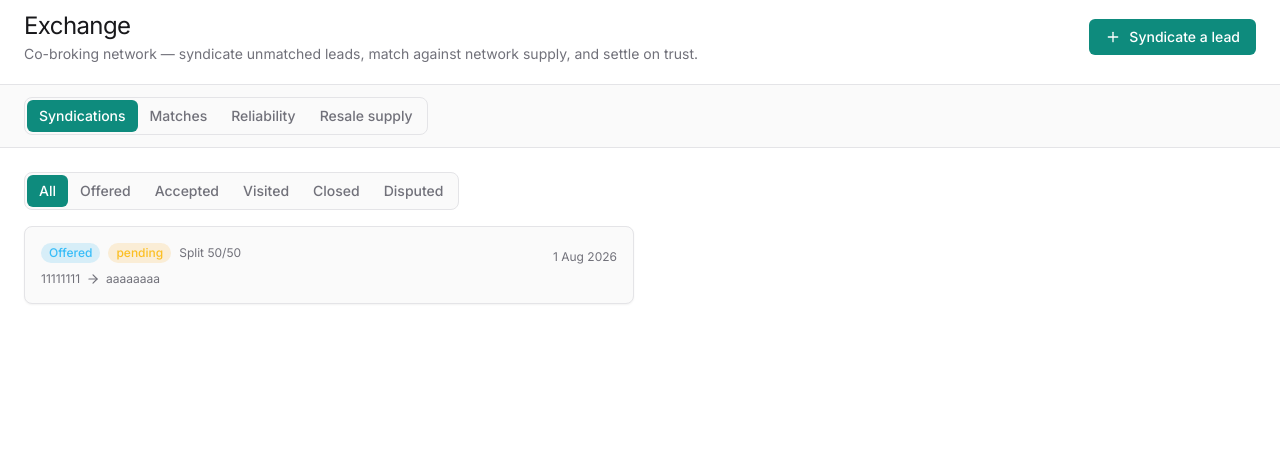
ExchangePage match panel › asks for nothing until a lead is picked
The width and height of the screenshot is (1280, 455).
Click the button "Matches": (178, 116) [138,100,219,132]
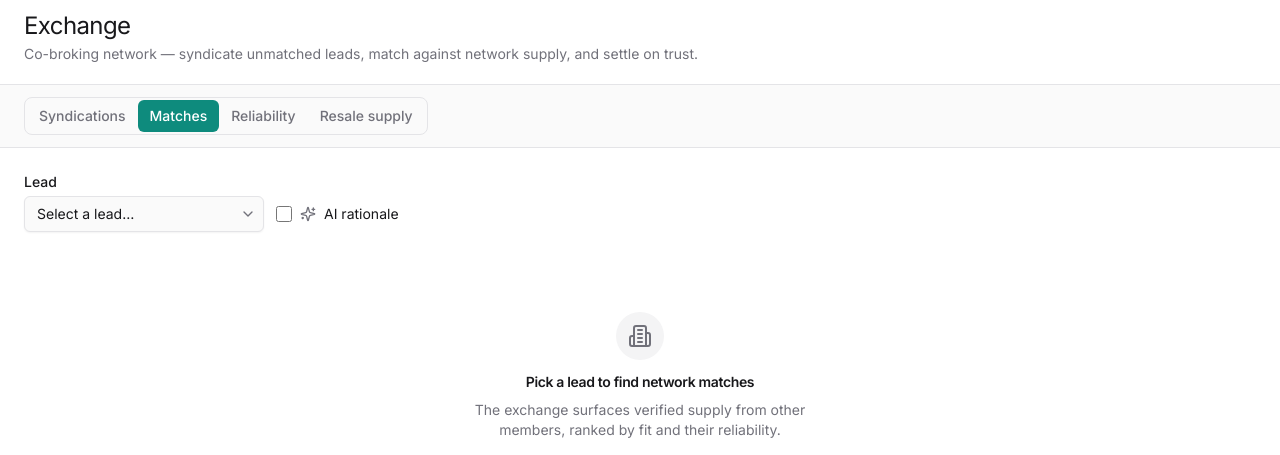
Check: the heading "Pick a lead to find network matches" is shown, box [526,372,754,392]
